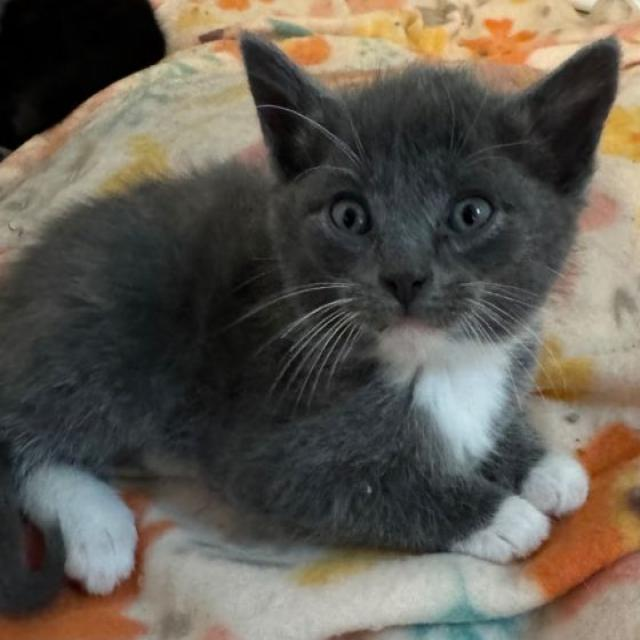russian_blue_cat: (235, 26, 620, 392)
